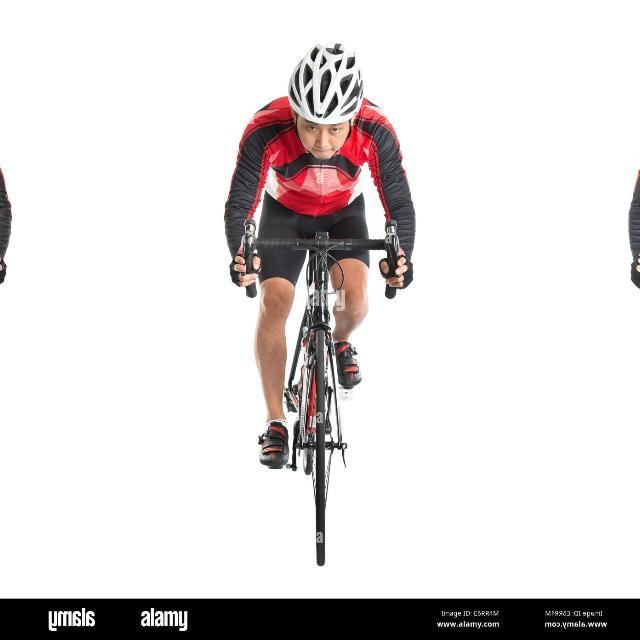obstacle: (218, 227, 418, 576), (0, 226, 16, 575), (624, 226, 640, 575)
